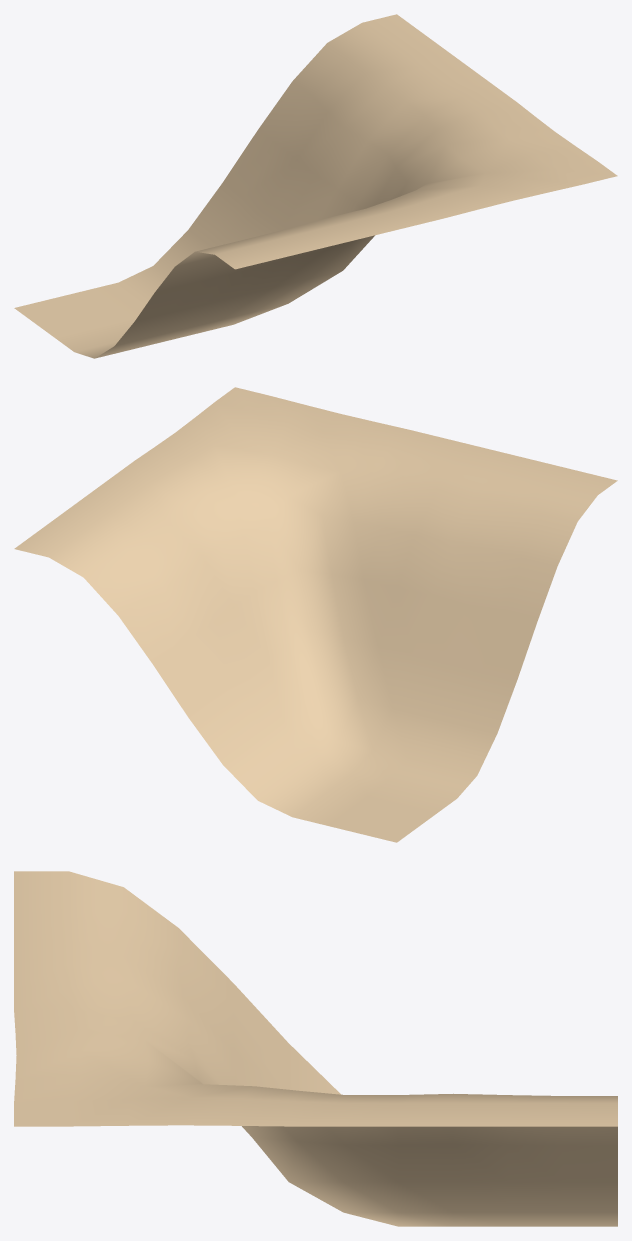
The model's file is sand_corner.fbx.
The picture shows the model from 3 angles, top to bottom: view 1: azimuth 30°, elevation 25°; view 2: azimuth 150°, elevation 25°; view 3: azimuth 270°, elevation 25°; orthographic projection. The views are drawn at different scales.
Parts seen in each view (by area): view 1: Edge_Corner; view 2: Edge_Corner; view 3: Edge_Corner.
Part boxes in pixels (bbox=[...]): Edge_Corner: bbox=[14, 14, 617, 358]; Edge_Corner: bbox=[14, 387, 617, 842]; Edge_Corner: bbox=[14, 871, 617, 1226].
Size of the model in its own units: 100 by 50 by 100.
